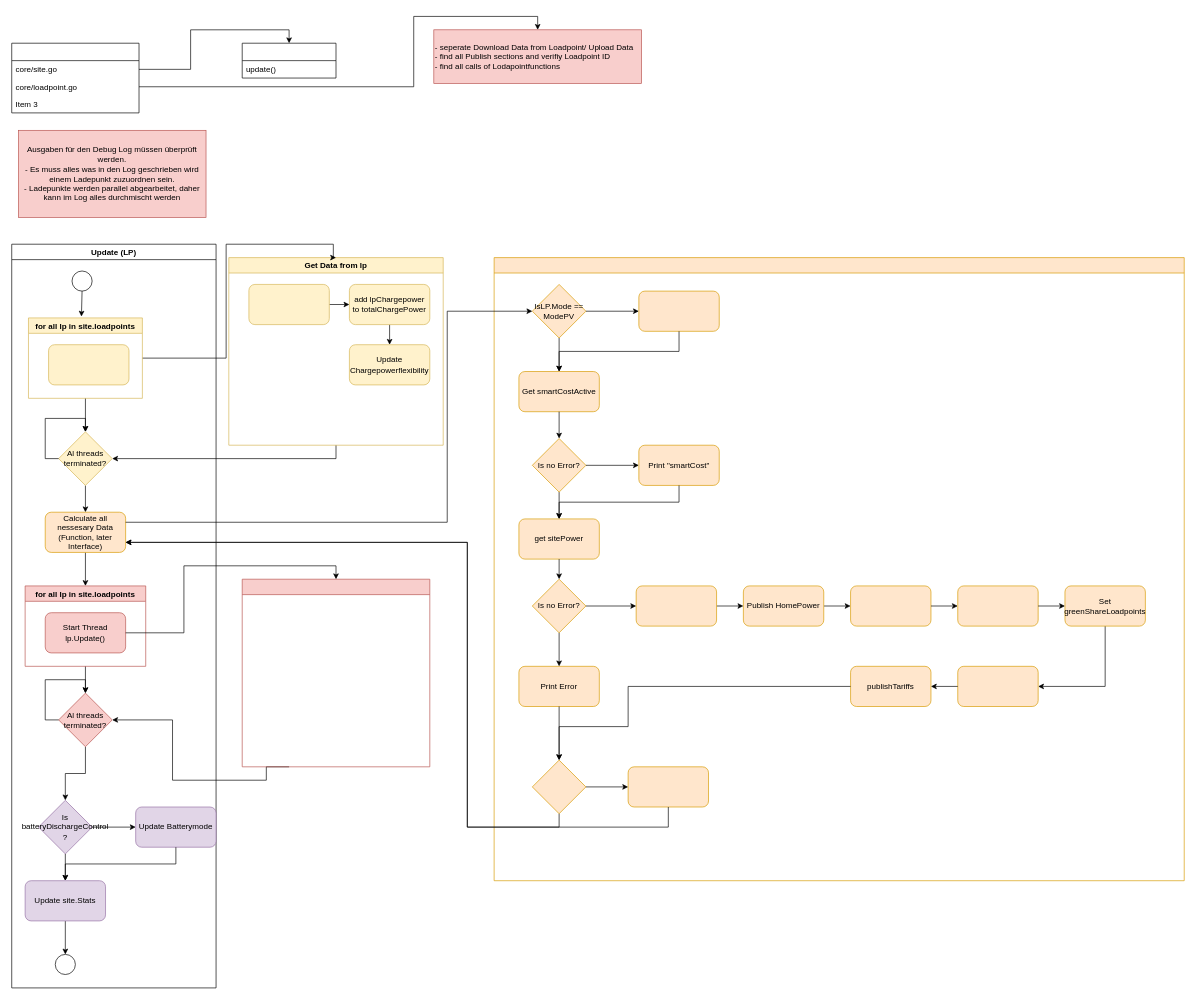
The diagram is 1196 pixels wide and 1000 high, and some of its shapes have lost their labels. Here are the shapes that lost their labels. From the top down, the box of each, then its label:
(11, 43, 139, 113): Changed Files
(242, 43, 336, 78): Changed Routines
(248, 284, 329, 325): Update Chargepower
(638, 290, 719, 331): flexiblePower = GetChargePowerflexibil
(48, 344, 129, 385): Start Update lp in Thread
(493, 257, 1184, 881): Calculation
(635, 585, 717, 626): Set Homepower
(850, 585, 931, 626): Set nonChargePower
(957, 585, 1038, 626): Set greenShareHome
(242, 579, 430, 767): Set Data to lp
(957, 666, 1038, 707): Update site.Health
(532, 759, 586, 814): telemetry enabled?
(627, 766, 709, 807): Update ChargeProgress
